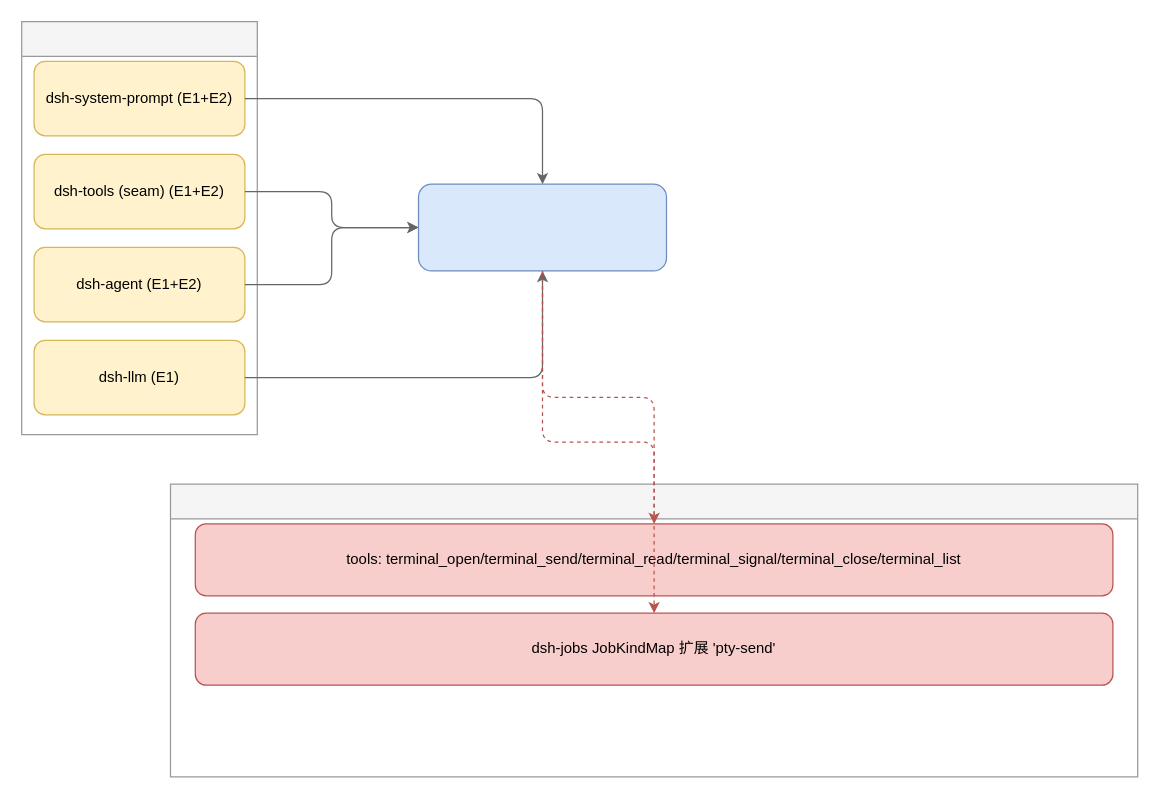
This 1159x799 diagram has some shape labels left out. Here are the shapes that lost their labels. From the top down, the box of each, then its label:
(20, 20, 257, 435): 上游依赖 upstream (E1/E2/E3)
(417, 183, 666, 271): @deepseek-ai/dsh-tool-terminal
(169, 483, 1138, 777): 提供服务 provides（关键项）
